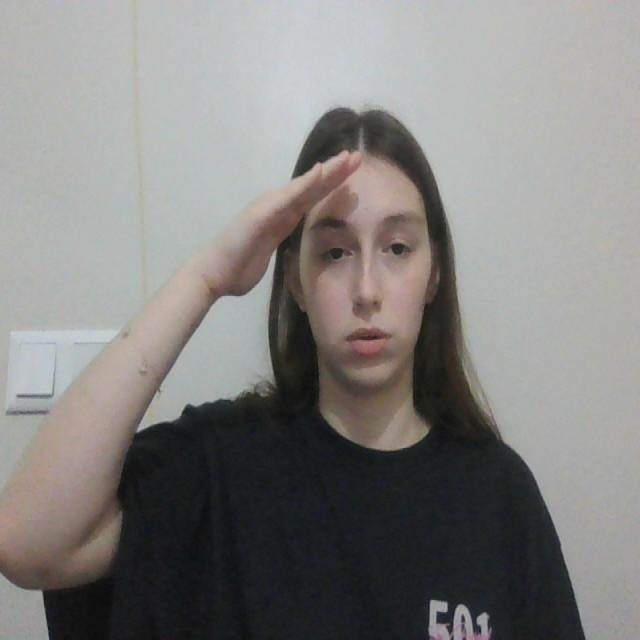Merhaba: (198, 143, 368, 349)
